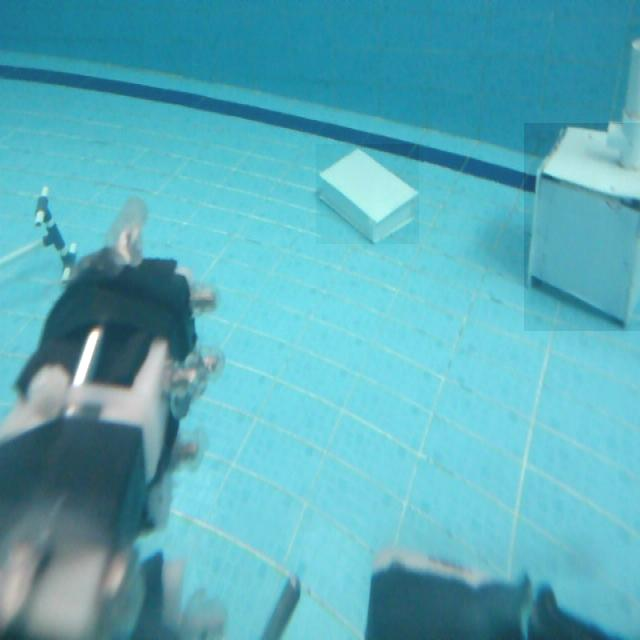Cube: (524, 123, 640, 331)
Cuboid: (316, 144, 419, 244)
